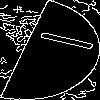I: (25, 25, 96, 53)
